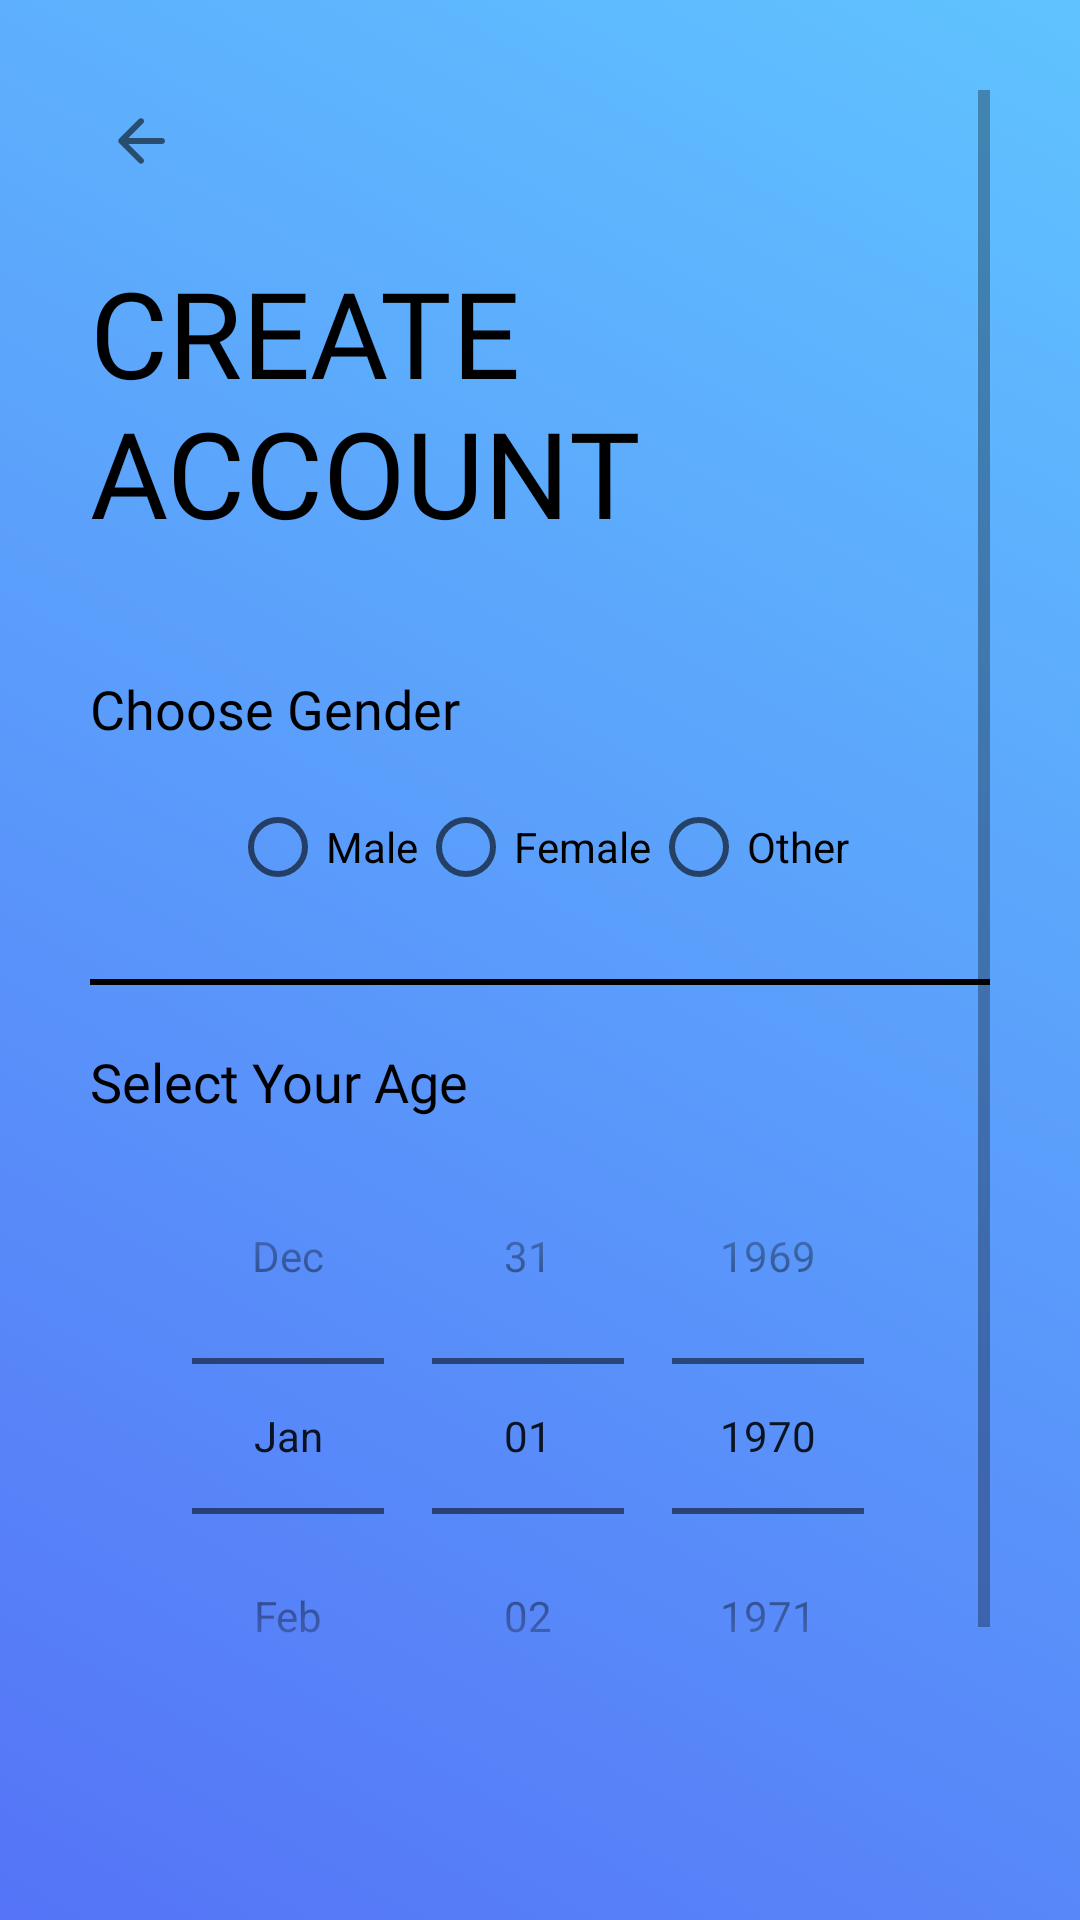

Icon bounding boxes for this 1080×1920 phone screenshot, format (x1, y1, x2, y2):
back: (118, 118, 165, 164)
